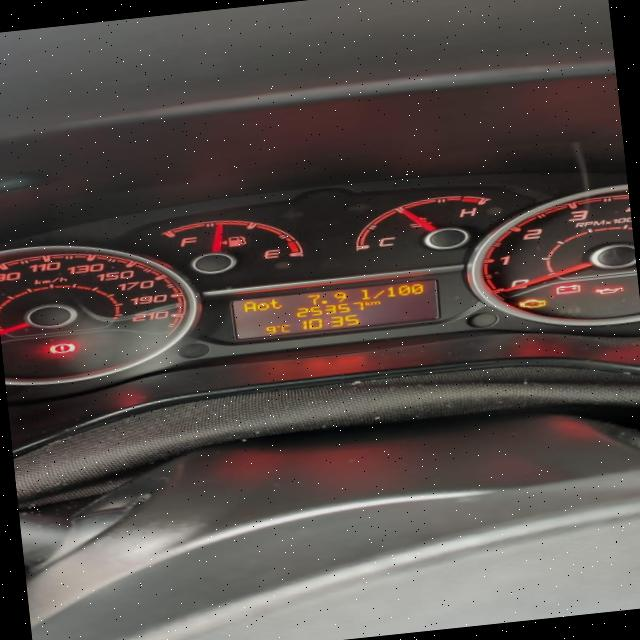odometer: (226, 276, 443, 342)
